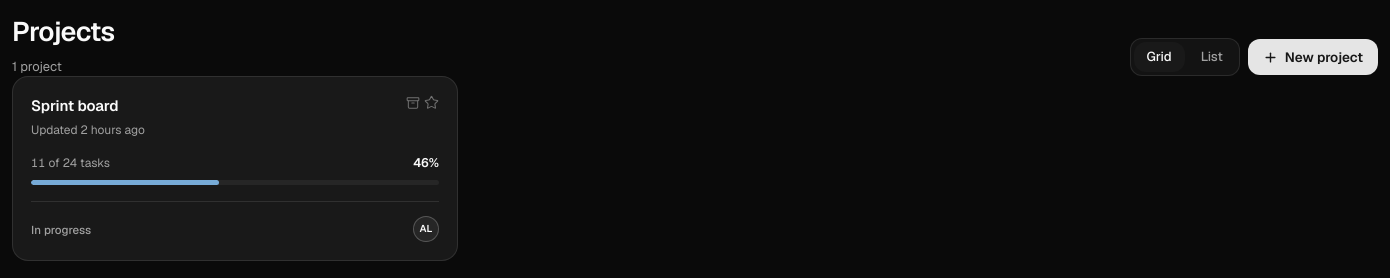
Scenario: ProjectsView › switches to the list table
Click the button "List" at x=1212, y=57, box [1188,42,1236,72]
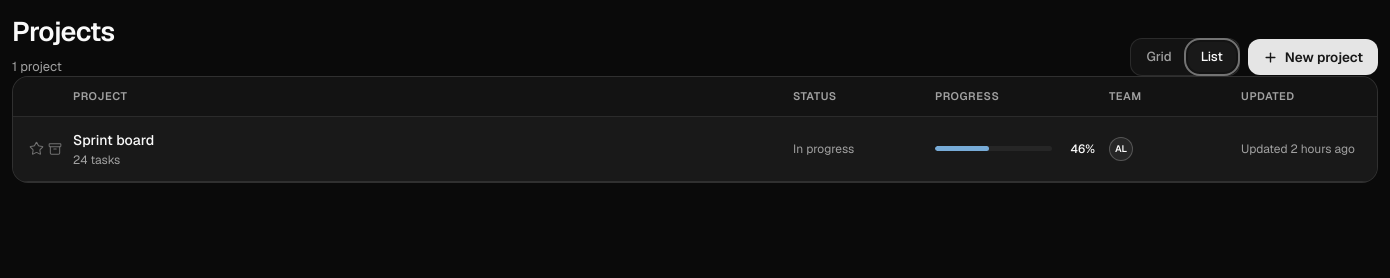
Check: the text "24 tasks" is shown, box [73,152,120,168]
Check: the text "Project" is shown, box [73,89,128,103]
Check: the link "11 of 24 tasks" is gone
